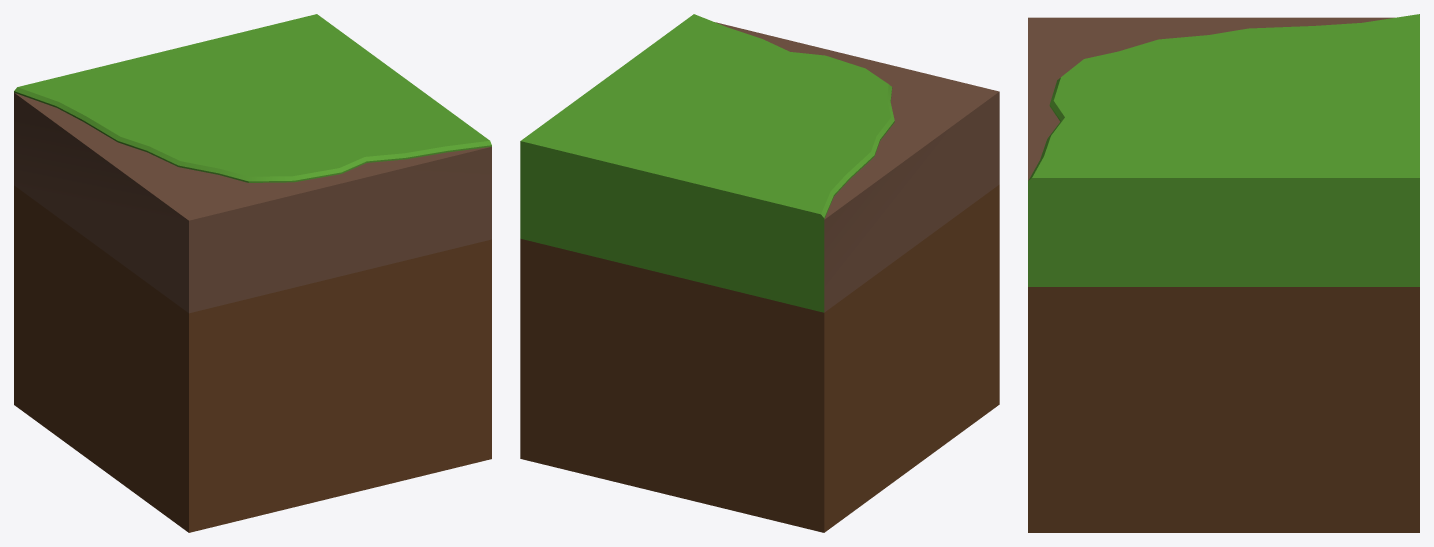
File: Grass-Ground 2.fbx
The picture shows the model from 3 angles, left to right: view 1: azimuth 30°, elevation 25°; view 2: azimuth 150°, elevation 25°; view 3: azimuth 270°, elevation 25°; orthographic projection. The views are drawn at different scales.
Visible parts, largest first — view 1: Grass/Ground 2; view 2: Grass/Ground 2; view 3: Grass/Ground 2.
Part boxes in pixels (x1=…): Grass/Ground 2: x1=14, y1=14, x2=491, y2=532; Grass/Ground 2: x1=520, y1=14, x2=999, y2=532; Grass/Ground 2: x1=1028, y1=14, x2=1419, y2=532.
Bounding box in the file's own units: 2 × 2 × 2.
